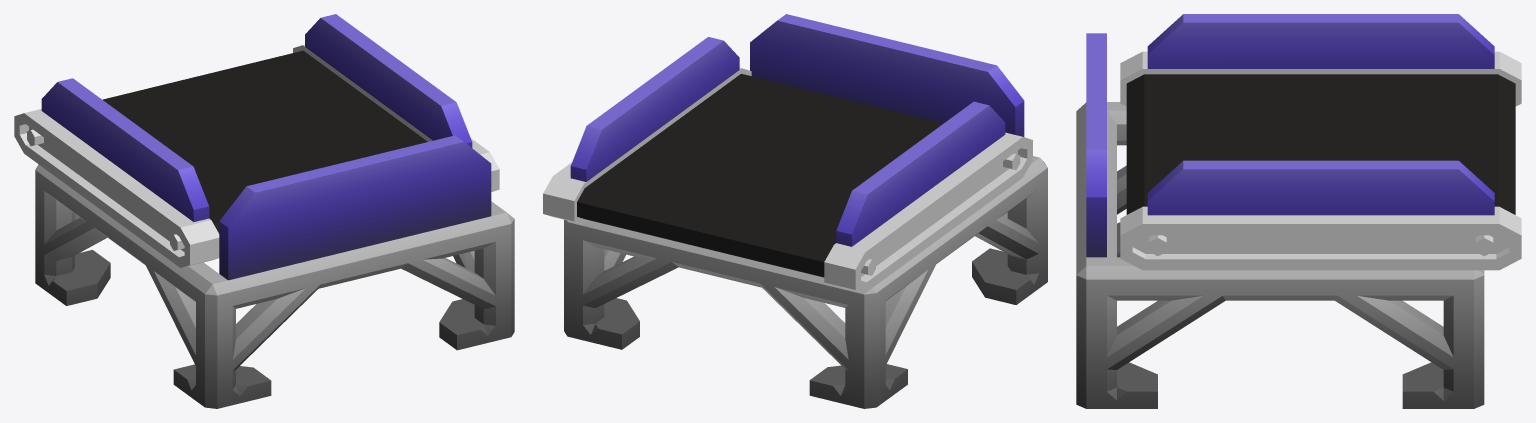
Rendered from conveyor_belt.glb.
The picture shows the model from 3 angles, left to right: view 1: azimuth 30°, elevation 25°; view 2: azimuth 150°, elevation 25°; view 3: azimuth 270°, elevation 25°; orthographic projection. The views are drawn at different scales.
Parts seen in each view (by area): view 1: ConveyorFrame_Material #23_0, Conveyor__0, BarrierTall_Material #23_0, ConveyorConnectorL_Material #26_0, BarrierL_Material #23_0, BarrierR_Material #23_0, ConveyorConnectorR_Material #26_0; view 2: Conveyor__0, ConveyorFrame_Material #23_0, BarrierTall_Material #23_0, ConveyorConnectorL_Material #26_0, BarrierL_Material #23_0, BarrierR_Material #23_0, ConveyorConnectorR_Material #26_0; view 3: Conveyor__0, ConveyorFrame_Material #23_0, ConveyorConnectorR_Material #26_0, BarrierR_Material #23_0, BarrierL_Material #23_0, BarrierTall_Material #23_0, ConveyorConnectorL_Material #26_0.
Boxes of the visible parts, left/top/right/bottom form: ConveyorFrame_Material #23_0: left=35, top=164, right=514, bottom=408; Conveyor__0: left=102, top=50, right=427, bottom=233; BarrierTall_Material #23_0: left=219, top=135, right=491, bottom=280; ConveyorConnectorL_Material #26_0: left=14, top=109, right=219, bottom=267; BarrierL_Material #23_0: left=41, top=78, right=209, bottom=221; BarrierR_Material #23_0: left=305, top=14, right=472, bottom=147; ConveyorConnectorR_Material #26_0: left=293, top=44, right=499, bottom=191; Conveyor__0: left=577, top=73, right=943, bottom=277; ConveyorFrame_Material #23_0: left=564, top=156, right=1047, bottom=408; BarrierTall_Material #23_0: left=750, top=14, right=1024, bottom=136; ConveyorConnectorL_Material #26_0: left=824, top=132, right=1032, bottom=292; BarrierL_Material #23_0: left=836, top=101, right=1005, bottom=246; BarrierR_Material #23_0: left=570, top=37, right=739, bottom=181; ConveyorConnectorR_Material #26_0: left=543, top=68, right=751, bottom=224; Conveyor__0: left=1126, top=74, right=1515, bottom=214; ConveyorFrame_Material #23_0: left=1076, top=102, right=1484, bottom=408; ConveyorConnectorR_Material #26_0: left=1120, top=206, right=1521, bottom=270; BarrierR_Material #23_0: left=1147, top=160, right=1494, bottom=215; BarrierL_Material #23_0: left=1147, top=14, right=1494, bottom=68; BarrierTall_Material #23_0: left=1086, top=33, right=1106, bottom=257; ConveyorConnectorL_Material #26_0: left=1120, top=51, right=1521, bottom=106.
Size of the model in its own units: 2 by 1.25 by 2.18.
Materials: 3 (1 with a texture image).
